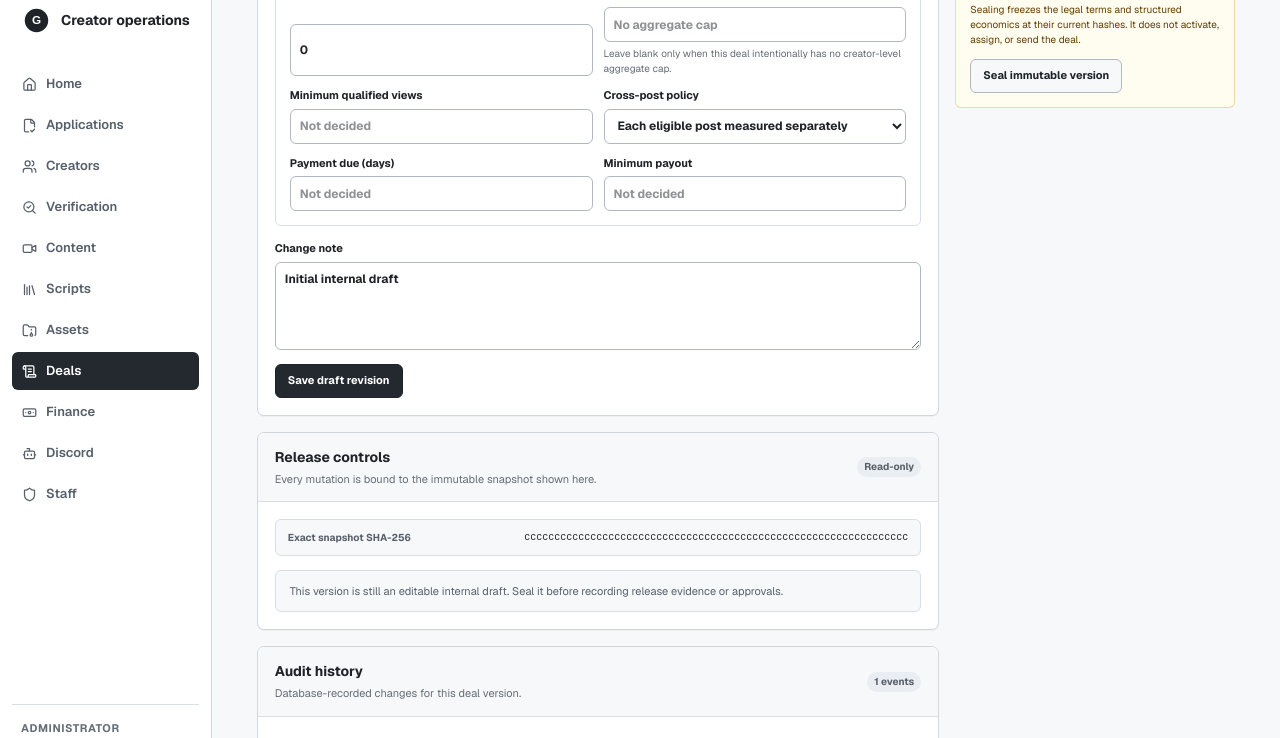
Test case: admin deal workspace › saves against the loaded optimistic draft revision without changing lifecycle state
This screenshot has width=1280, height=738.
(page scrolled)
Click the button "Save draft revision" at [339, 381], box 275,364 -> 402,398
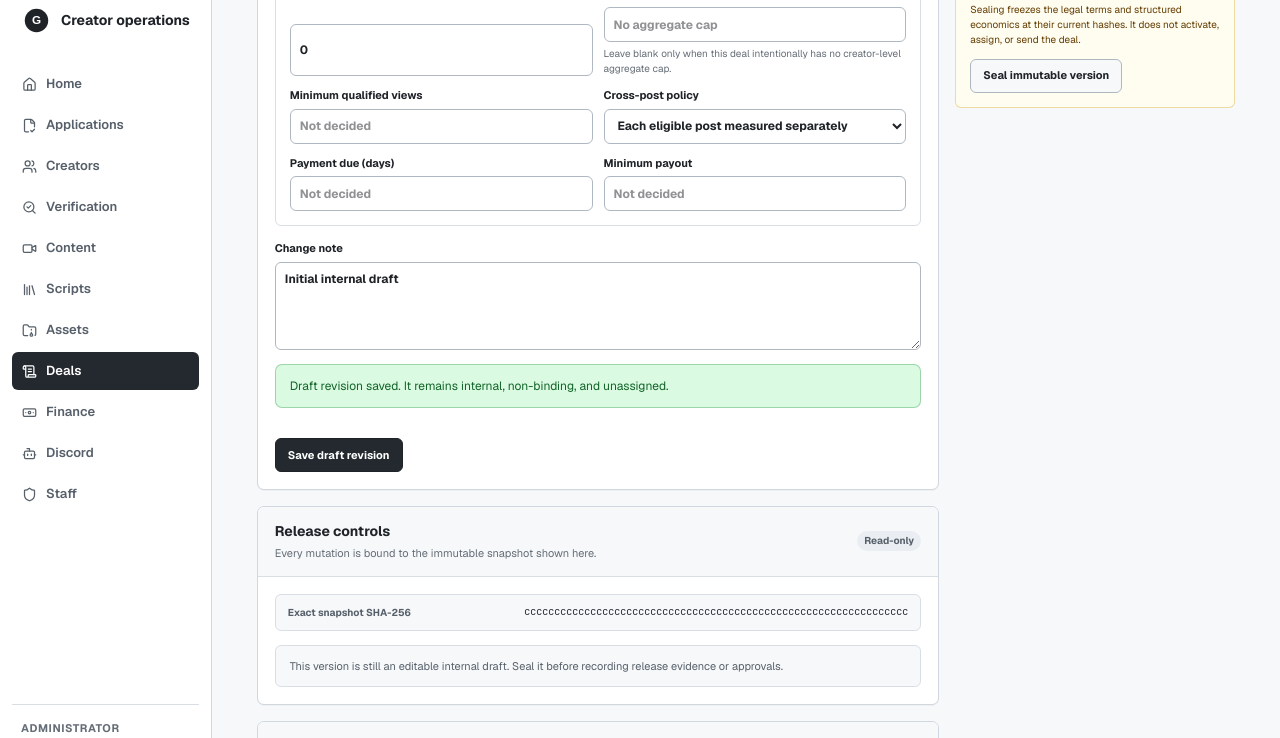
Result: the message shows "remains internal, non-binding, and unassigned" at 290,378 -> 668,394
